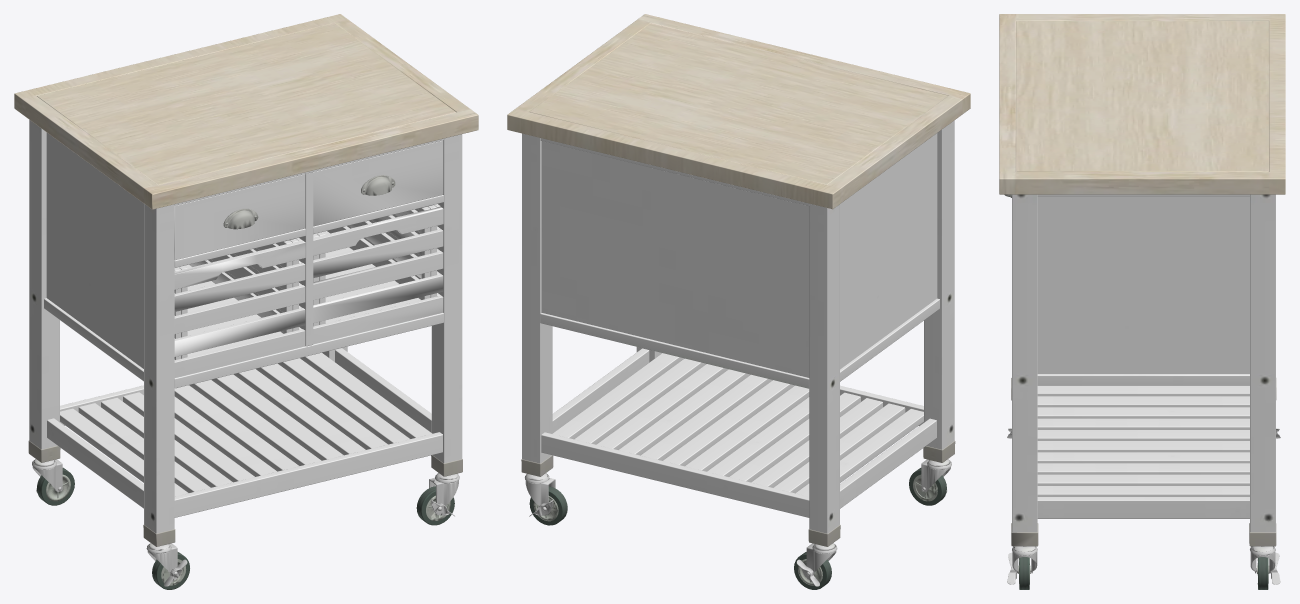
File: B07M7NSYD3.glb
3 renders of one model, left to right at view 1: azimuth 30°, elevation 25°; view 2: azimuth 150°, elevation 25°; view 3: azimuth 270°, elevation 25°, orthographic. The views are drawn at different scales.
Parts seen in each view (by area): view 1: RootNode; view 2: RootNode; view 3: RootNode.
Boxes of the visible parts, bbox=[...] form: RootNode: bbox=[14, 14, 478, 589]; RootNode: bbox=[507, 14, 970, 589]; RootNode: bbox=[999, 14, 1285, 589].
Size of the model in its own units: 0.762 by 0.9144 by 0.5588.
1 material, 1 textured.
